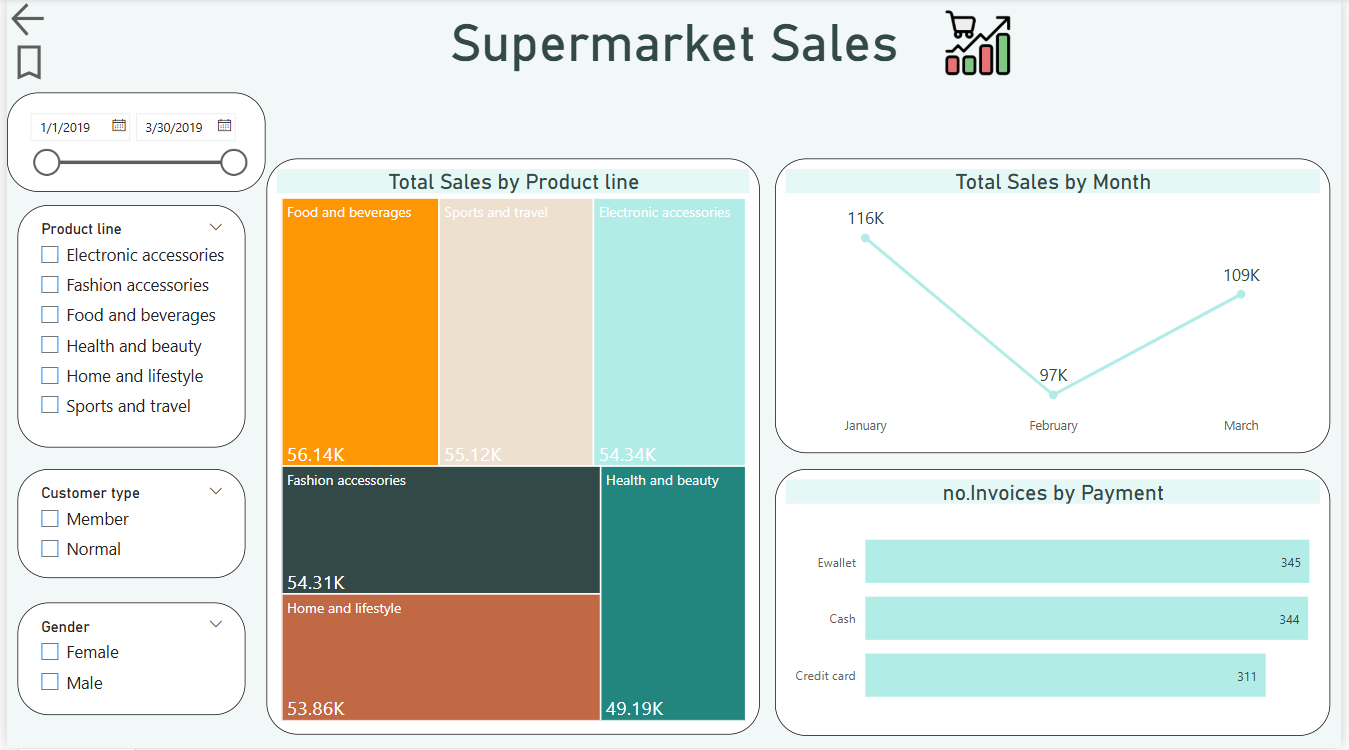

What the dashboard file says about the page in this screenshot:
{"tool":"powerbi","page":{"name":"Sales 2","canvas":[1280,720],"ordinal":1},"visuals":[{"type":"textbox","title":"Supermarket Sales","box":[0,12.5,1280.7,65.6],"z":0},{"type":"slicer","fields":{"Values":["supermarket_sales - Sheet1.Product line"]},"box":[9.4,198.4,218.7,232.7],"z":1000},{"type":"slicer","fields":{"Values":["supermarket_sales - Sheet1.Customer type"]},"box":[9.4,451.4,218.7,104.6],"z":2000},{"type":"slicer","fields":{"Values":["supermarket_sales - Sheet1.Gender"]},"box":[9.4,579.4,218.7,107.8],"z":3000},{"type":"treemap","fields":{"Values":["My Measures.Total Sales"],"Group":["supermarket_sales - Sheet1.Product line"]},"box":[248.3,154.6,473.2,552.9],"z":4000},{"type":"lineChart","fields":{"Category":["supermarket_sales - Sheet1.Date.Variation.Date Hierarchy.Year","supermarket_sales - Sheet1.Date.Variation.Date Hierarchy.Quarter","supermarket_sales - Sheet1.Date.Variation.Date Hierarchy.Month","supermarket_sales - Sheet1.Date.Variation.Date Hierarchy.Day"],"Y":["My Measures.Total Sales"]},"box":[737.2,154.6,532.6,282.7],"z":5000},{"type":"barChart","fields":{"Y":["My Measures.no.Invoices"],"Category":["supermarket_sales - Sheet1.Payment"]},"box":[737.2,451.4,532.6,256.1],"z":6000},{"type":"slicer","fields":{"Values":["supermarket_sales - Sheet1.Date"]},"box":[0,90.6,248.3,95.3],"z":7000},{"type":"actionButton","box":[0,0,48,41],"z":8000},{"type":"image","box":[893.4,0,75,86],"z":9000},{"type":"actionButton","box":[0,41,47.3,42.6],"z":9001}]}

Visuals, with their boxes in screenshot pixels (x1, y1, x2, y2), scaled from the page's 1280x720 canvas onto the 1349x750 screenshot:
"Supermarket Sales" textbox: box(0, 13, 1348, 81)
slicer - supermarket_sales - Sheet1.Product line: box(10, 207, 240, 449)
slicer - supermarket_sales - Sheet1.Customer type: box(10, 470, 240, 579)
slicer - supermarket_sales - Sheet1.Gender: box(10, 604, 240, 716)
treemap - My Measures.Total Sales x supermarket_sales - Sheet1.Product line: box(262, 161, 760, 737)
lineChart - supermarket_sales - Sheet1.Date.Variation.Date Hierarchy.Year x supermarket_sales - Sheet1.Date.Variation.Date Hierarchy.Quarter: box(777, 161, 1338, 456)
barChart - My Measures.no.Invoices x supermarket_sales - Sheet1.Payment: box(777, 470, 1338, 737)
slicer - supermarket_sales - Sheet1.Date: box(0, 94, 262, 194)
actionButton: box(0, 0, 51, 43)
image: box(942, 0, 1021, 90)
actionButton: box(0, 43, 50, 87)
